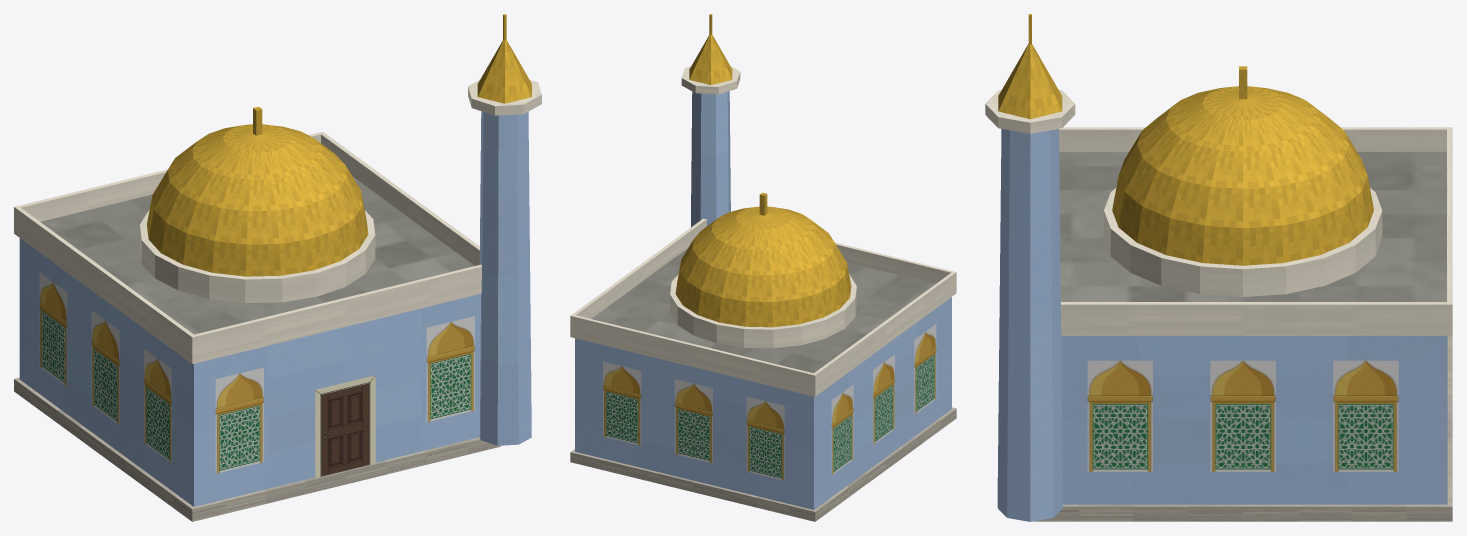
File: mosque-sky.glb
3 views of the same model, side by side, from view 1: azimuth 30°, elevation 25°; view 2: azimuth 150°, elevation 25°; view 3: azimuth 270°, elevation 25° (orthographic). The views are drawn at different scales.
Visible parts, largest first — view 1: mosque-sky; view 2: mosque-sky; view 3: mosque-sky.
Boxes of the visible parts, x1,y1,x2,y2 form: mosque-sky: [14, 14, 541, 521]; mosque-sky: [570, 14, 956, 521]; mosque-sky: [985, 14, 1452, 521].
Bounding box in the file's own units: 11.42 × 13.7 × 11.42.
1 material, 1 textured.
